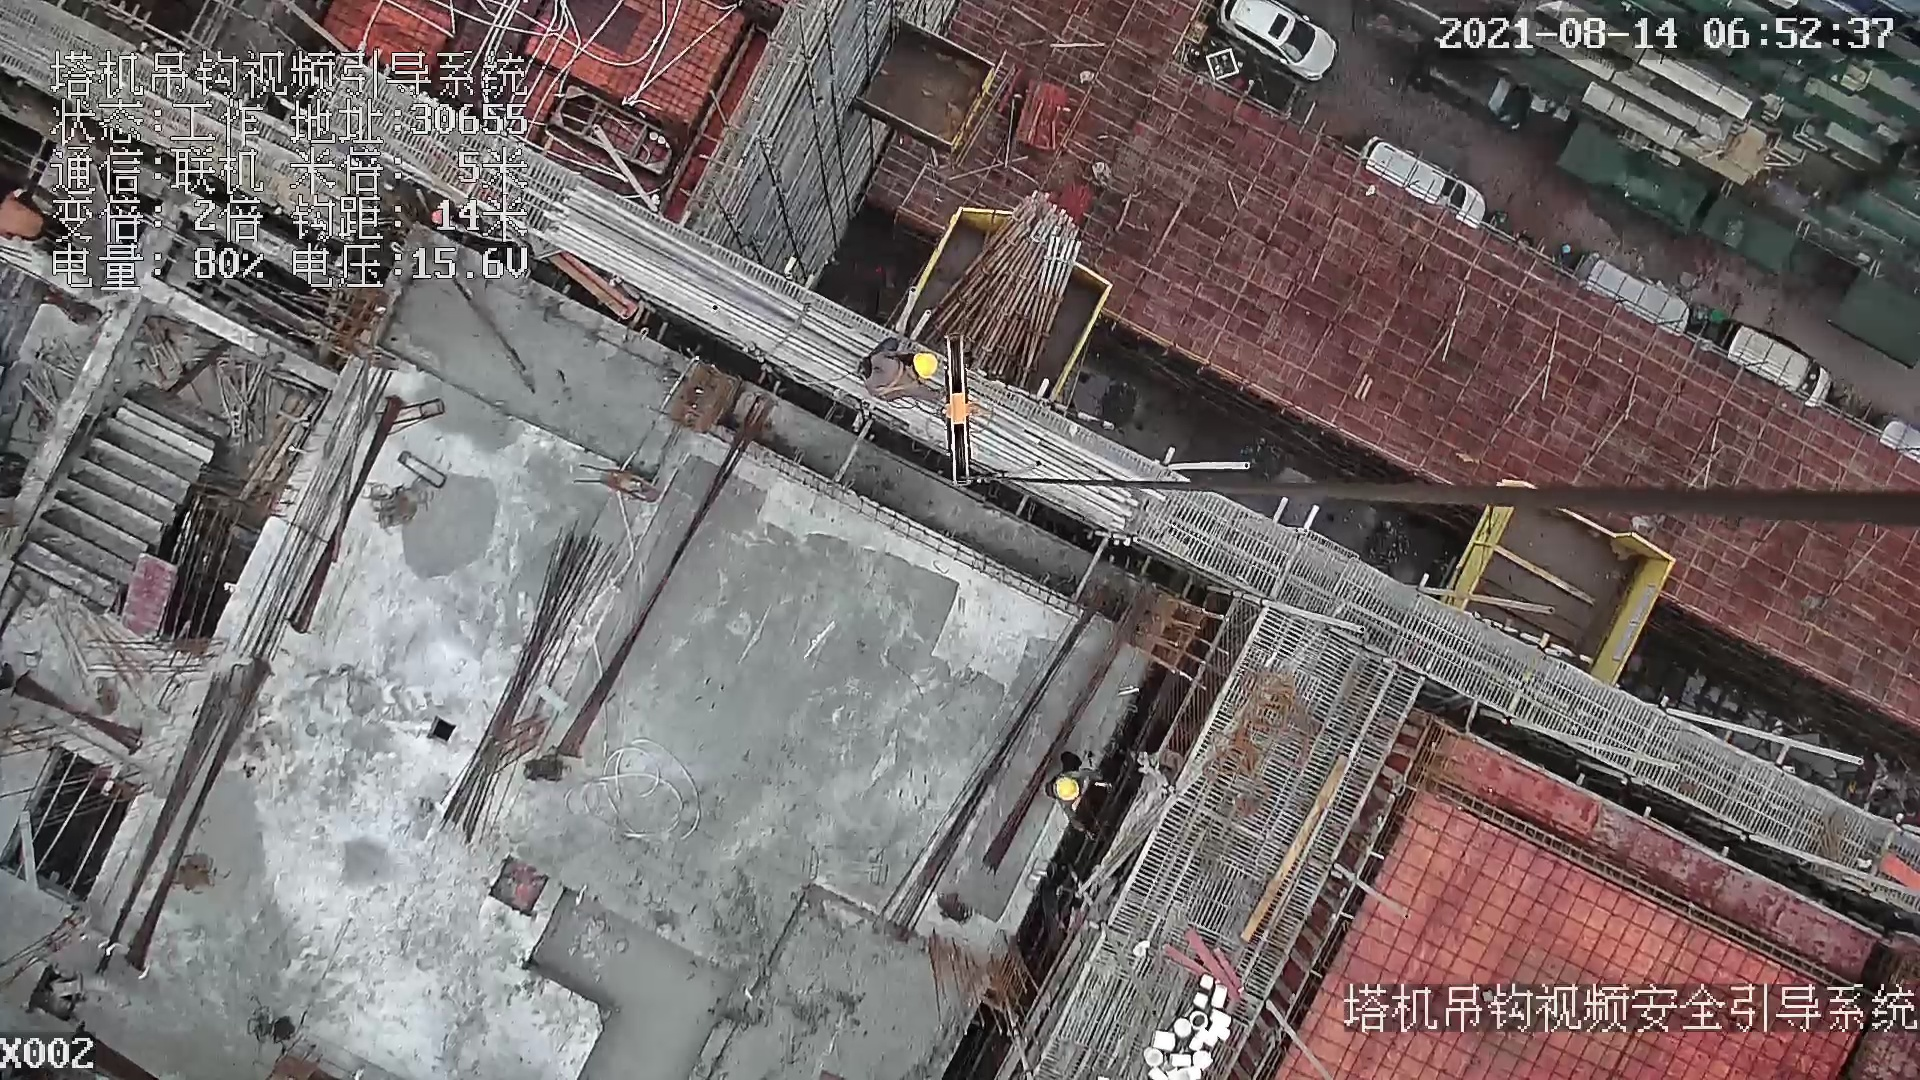helmet: (912, 351, 938, 380), (1054, 776, 1078, 801)
hook: (935, 335, 987, 491)
person: (1045, 741, 1112, 842), (855, 336, 949, 408), (1, 184, 50, 241)
rebar: (532, 184, 1146, 531), (434, 533, 614, 844)
scaffold: (912, 191, 1081, 393)
